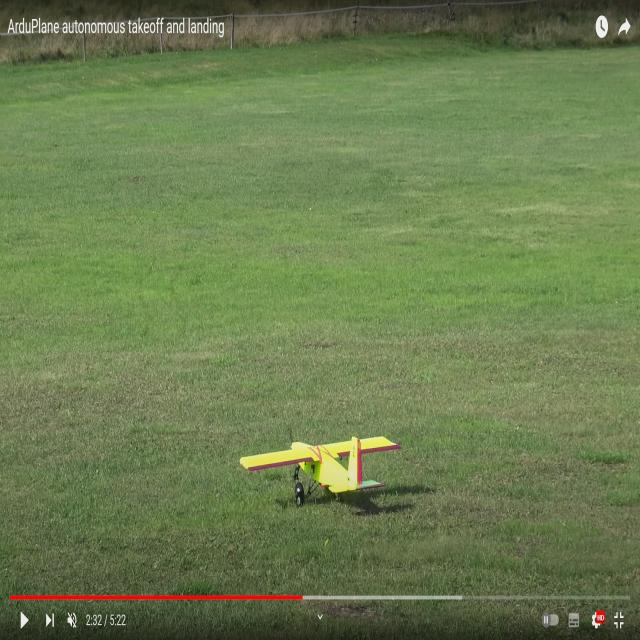iha: (238, 464, 403, 470)
